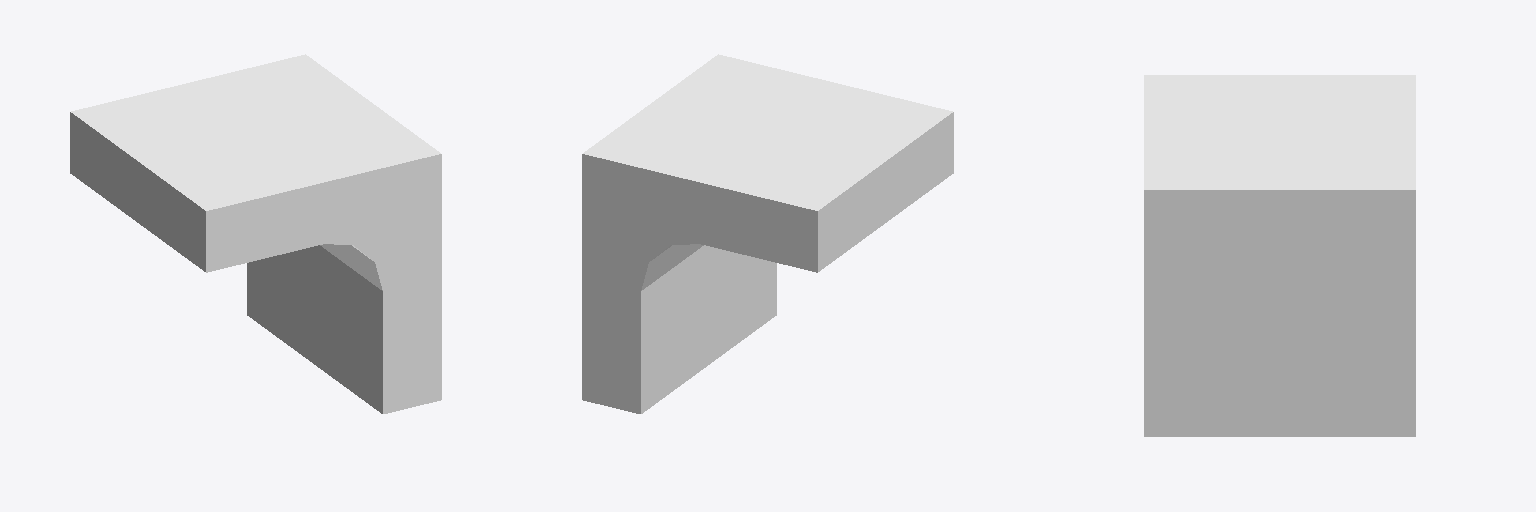
File: wallFortified_gateHalf.obj
3 views of the same model, side by side, from view 1: azimuth 30°, elevation 25°; view 2: azimuth 150°, elevation 25°; view 3: azimuth 270°, elevation 25° (orthographic).
Parts seen in each view (by area): view 1: wallFortified_gateHalf; view 2: wallFortified_gateHalf; view 3: wallFortified_gateHalf.
Boxes of the visible parts, x1=… form: wallFortified_gateHalf: x1=70, y1=54, x2=441, y2=413; wallFortified_gateHalf: x1=582, y1=54, x2=953, y2=413; wallFortified_gateHalf: x1=1144, y1=75, x2=1415, y2=436.
Size of the model in its own units: 1 by 1 by 1.